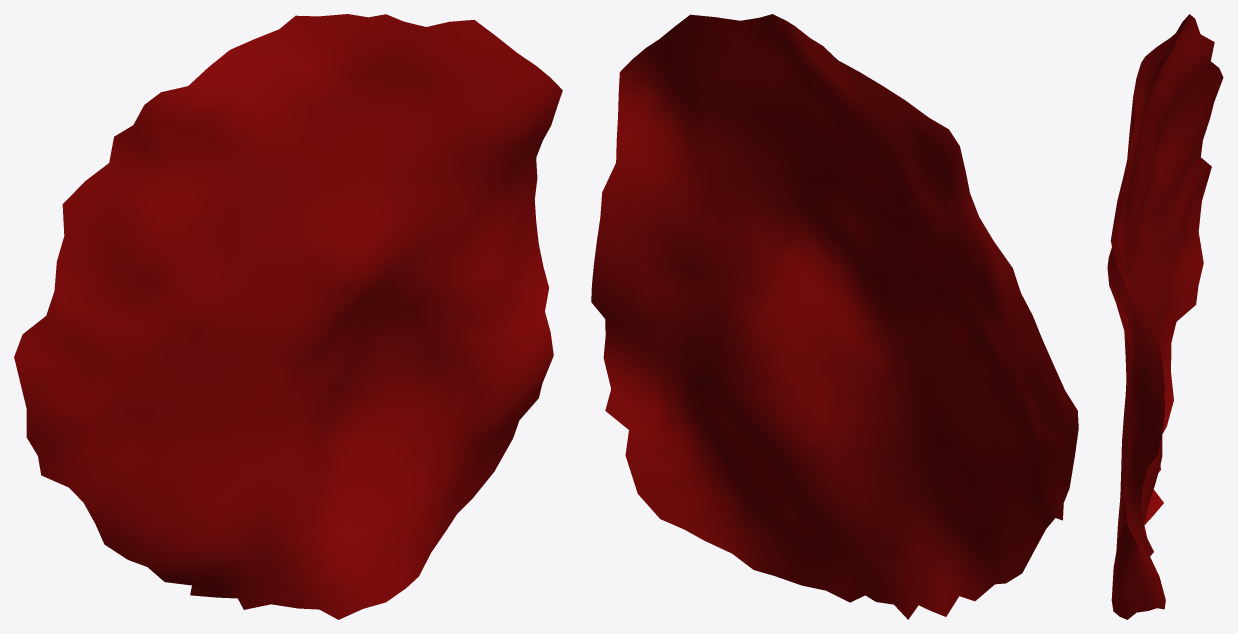
Rendered from Rgn_TAG.obj.
3 views of the same model, side by side, from view 1: azimuth 30°, elevation 25°; view 2: azimuth 150°, elevation 25°; view 3: azimuth 270°, elevation 25° (orthographic). The views are drawn at different scales.
Parts seen in each view (by area): view 1: TagSite; view 2: TagSite; view 3: TagSite.
Boxes of the visible parts, box(x1,y1,x2,y2) form: TagSite: box(14, 14, 562, 619); TagSite: box(591, 14, 1078, 619); TagSite: box(1107, 14, 1223, 619).
Bounding box in the file's own units: 0.4447 × 0.4854 × 0.0907.
